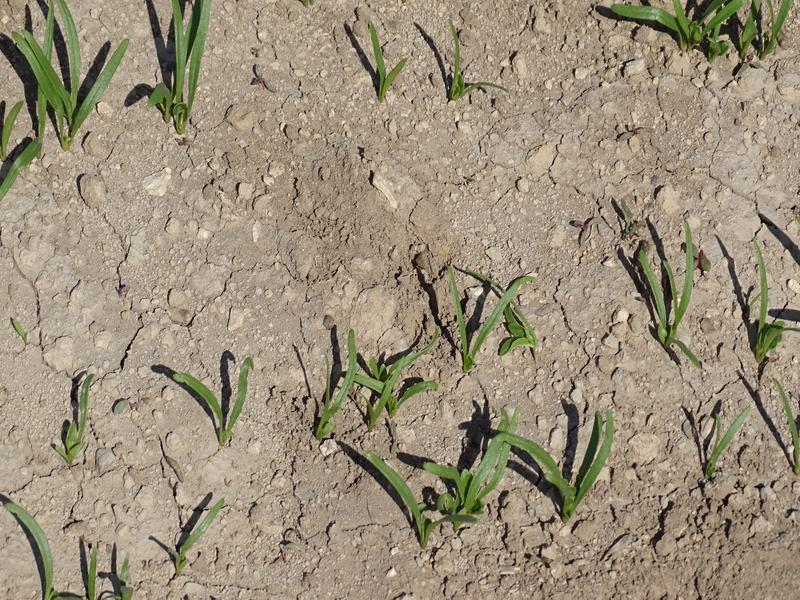Espinaca: (311, 264, 538, 435), (369, 407, 627, 532), (1, 4, 128, 156), (633, 209, 709, 368), (615, 1, 788, 60), (20, 527, 136, 600), (167, 1, 214, 133), (176, 353, 256, 428), (162, 495, 226, 565), (749, 247, 786, 358), (61, 370, 100, 454)
